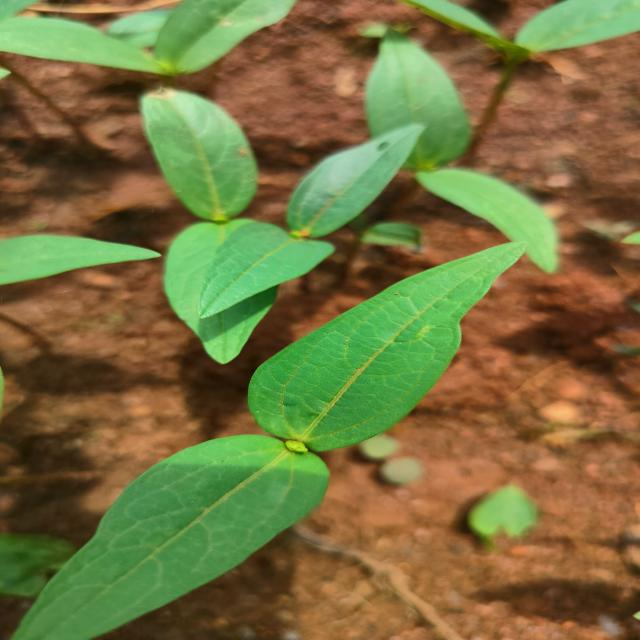Black gram_healthy: (8, 436, 337, 640), (242, 225, 551, 440), (165, 214, 286, 370), (288, 123, 429, 240), (358, 29, 469, 174), (134, 82, 252, 214)
